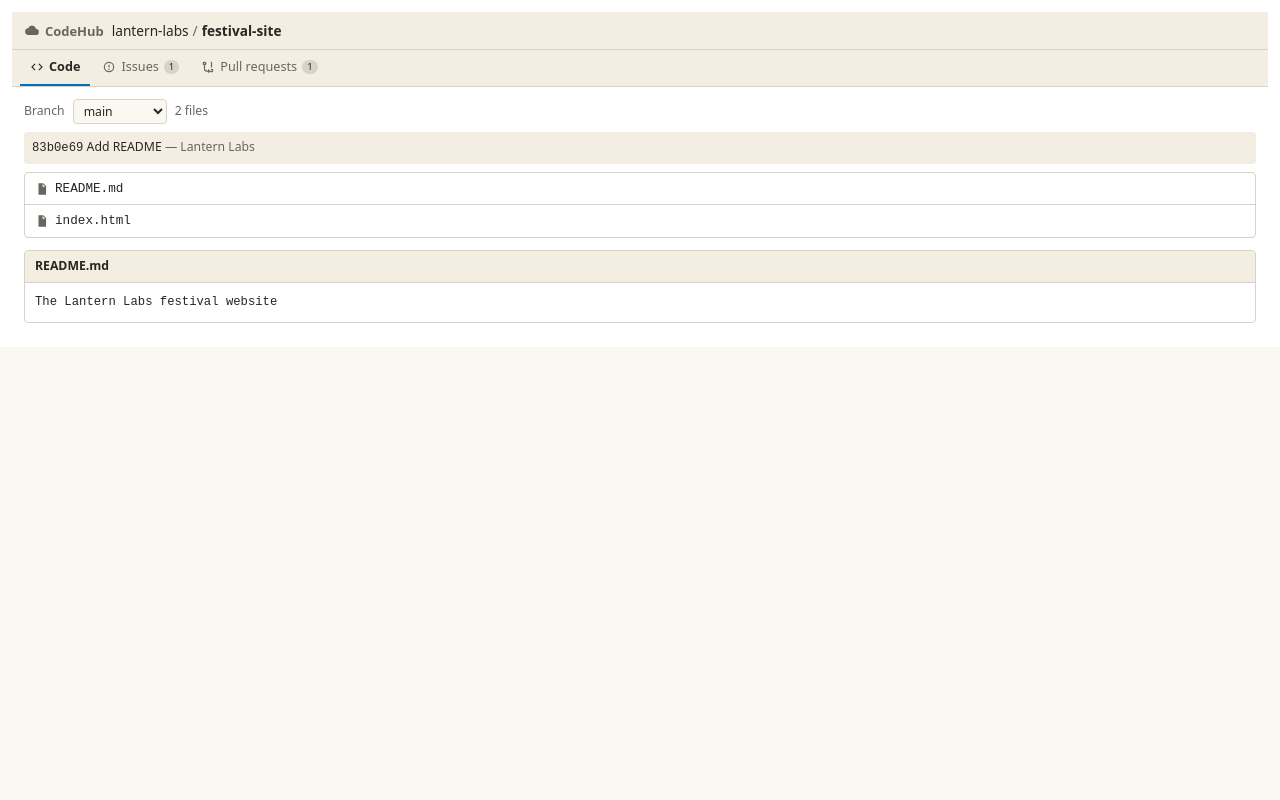
Test case: HubPanel (simulated code-hosting site) › shows a pull request with its review and line comment
Click the tab with test id "hub-nav-pulls": (259, 68) [191,50,328,86]
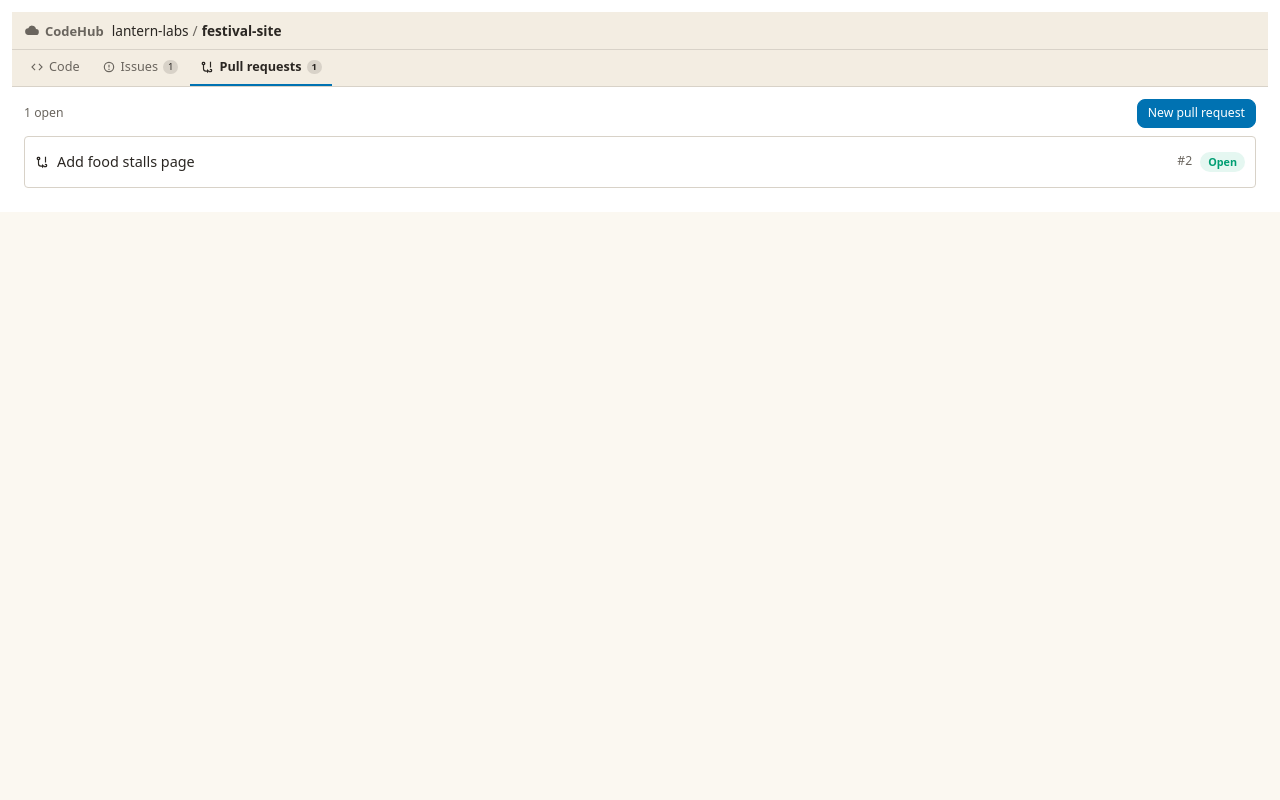
Click the button "Add food stalls page #2 Open": (126, 161) [25,143,1255,181]
(page scrolled)
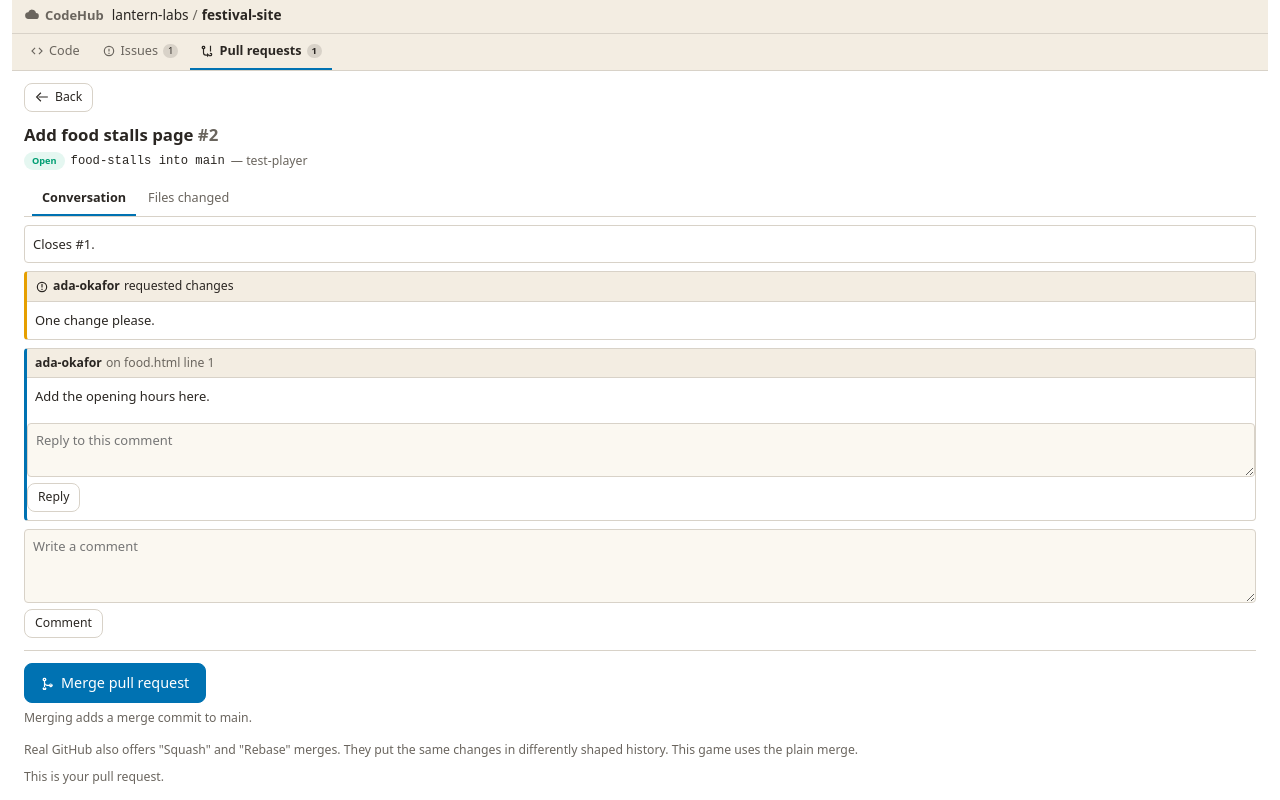
Check: the heading with test id "hub-pull-title" shows "Add food stalls page", box [24,123,194,146]
Check: the element with test id "hub-panel" shows "requested changes", box [124,278,234,294]
Check: the element with test id "hub-panel" shows "Add the opening hours here.", box [35,388,210,406]
